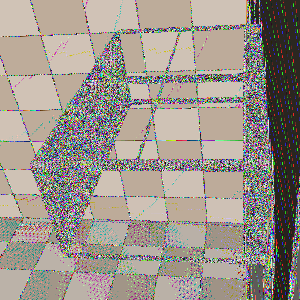Rack: (28, 33, 271, 278)
